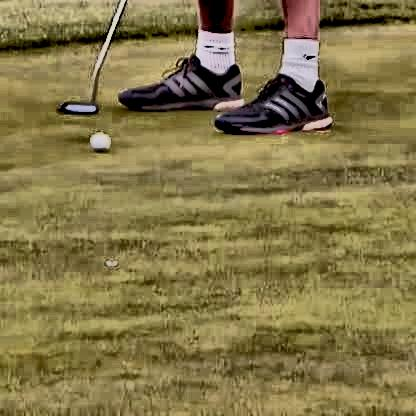golfball: (89, 127, 108, 149)
